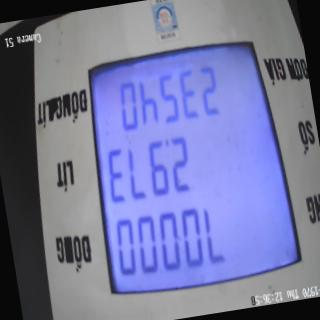screen: (70, 27, 310, 320)
